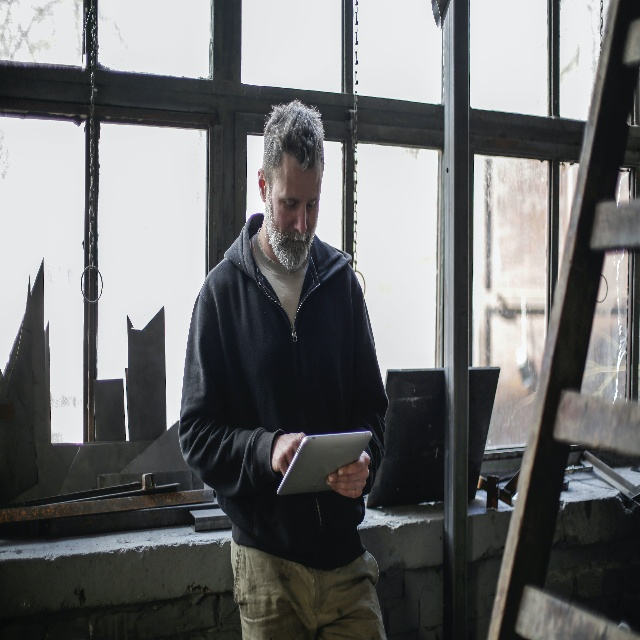Sin_guantes: (325, 450, 369, 495), (273, 431, 307, 476)
